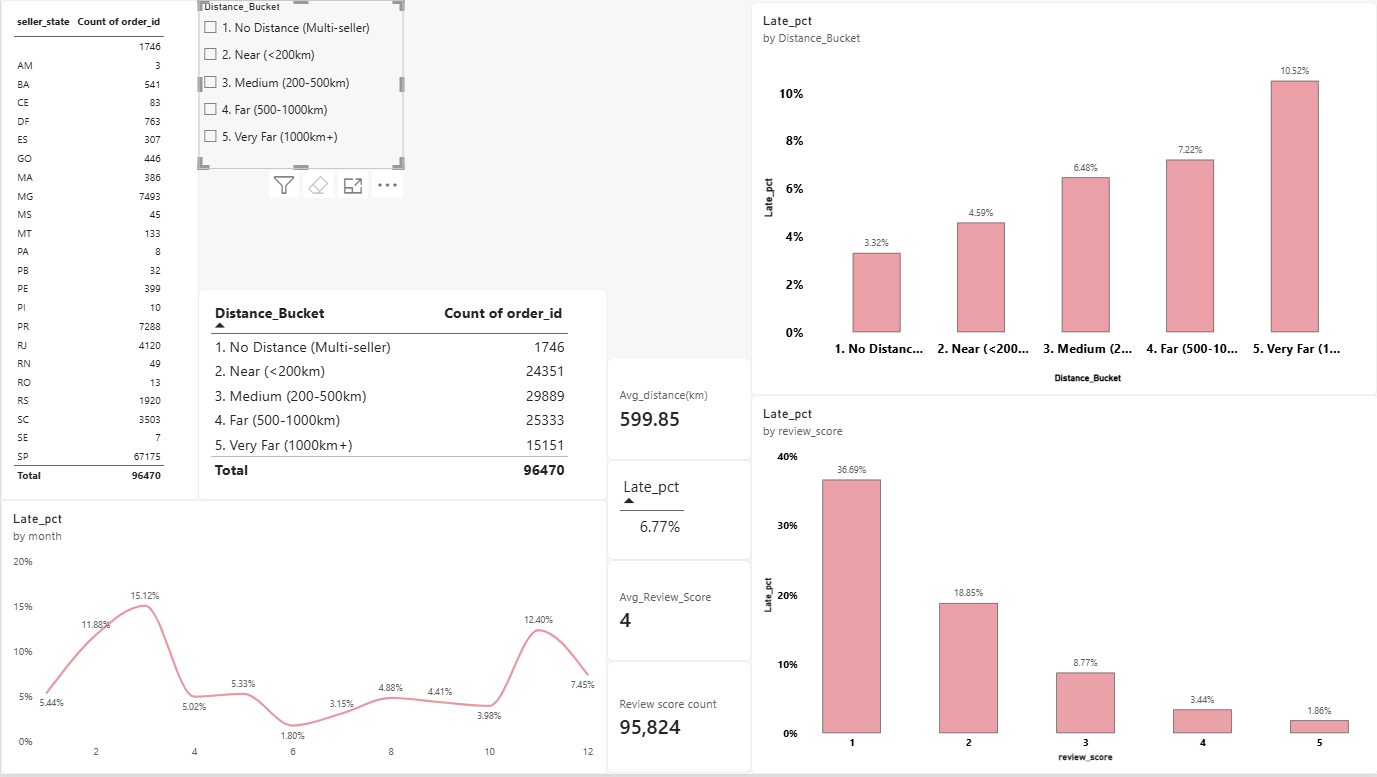

What the dashboard file says about the page in this screenshot:
{"tool":"powerbi","page":{"name":"Page 1","canvas":[1920,1080],"ordinal":0},"visuals":[{"type":"tableEx","fields":{"Values":["dim_seller.seller_state","fact_orders.order_id"]},"box":[0,0,282.1,696.8],"z":0},{"type":"tableEx","fields":{"Values":["fact_orders.Late Percentage"]},"box":[282.1,525.3,257.9,171.6],"z":1},{"type":"cardVisual","fields":{"Data":["fact_orders.Review score count"]},"box":[282.1,0,257.9,181.1],"z":2},{"type":"cardVisual","fields":{"Data":["fact_orders.Avg_Review_Score"]},"box":[282.1,181.1,257.9,167.4],"z":3},{"type":"cardVisual","fields":{"Data":["fact_orders.Avg_distance(km)"]},"box":[282.1,348.4,257.9,176.8],"z":4},{"type":"tableEx","fields":{"Values":["fact_orders.Distance_Bucket","fact_orders.order_id"]},"box":[540,0,472.6,348.4],"z":5}]}

Visuals, with their boxes in screenshot pixels (x1, y1, x2, y2), scaled from the page's 1920x1080 canvas onto the 1377x777 screenshot:
tableEx - dim_seller.seller_state x fact_orders.order_id: [0,0,202,501]
tableEx - fact_orders.Late Percentage: [202,378,387,501]
cardVisual - fact_orders.Review score count: [202,0,387,130]
cardVisual - fact_orders.Avg_Review_Score: [202,130,387,251]
cardVisual - fact_orders.Avg_distance(km): [202,251,387,378]
tableEx - fact_orders.Distance_Bucket x fact_orders.order_id: [387,0,726,251]
